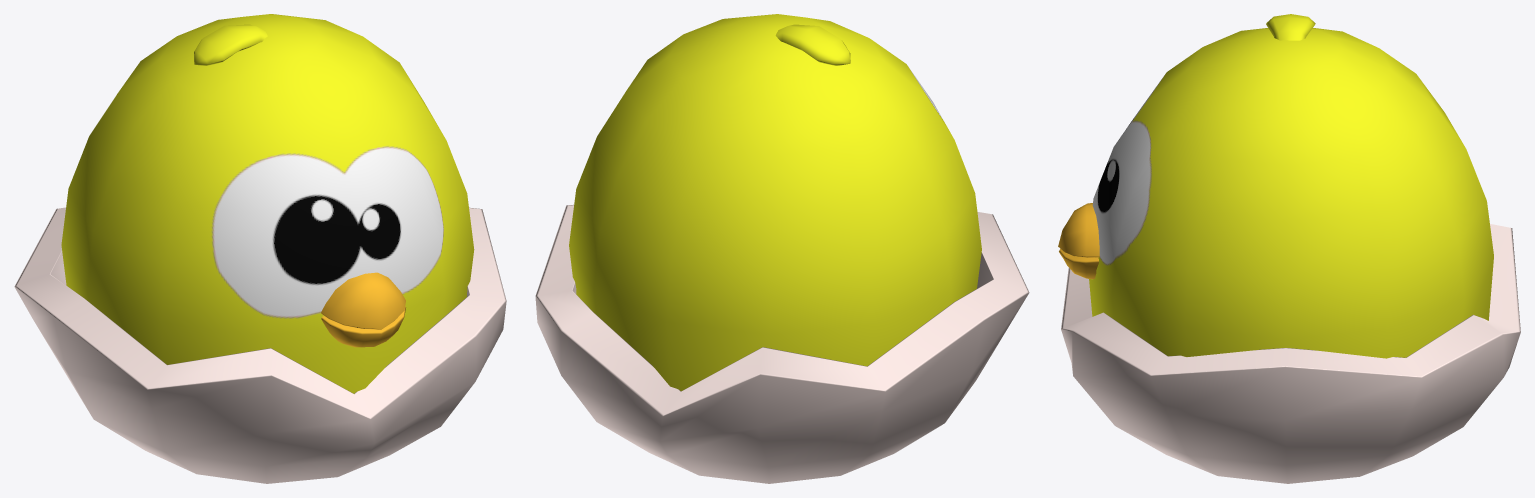
The model's file is birdEggYellow.fbx.
The picture shows the model from 3 angles, left to right: view 1: azimuth 30°, elevation 25°; view 2: azimuth 150°, elevation 25°; view 3: azimuth 270°, elevation 25°; orthographic projection. The views are drawn at different scales.
Visible parts, largest first — view 1: birdEggYellow; view 2: birdEggYellow; view 3: birdEggYellow.
Part boxes in pixels (left/top/right/bottom): birdEggYellow: left=14, top=14, right=506, bottom=483; birdEggYellow: left=535, top=14, right=1029, bottom=483; birdEggYellow: left=1058, top=14, right=1520, bottom=483.
Bounding box in the file's own units: 98.56 × 97.05 × 95.21.
